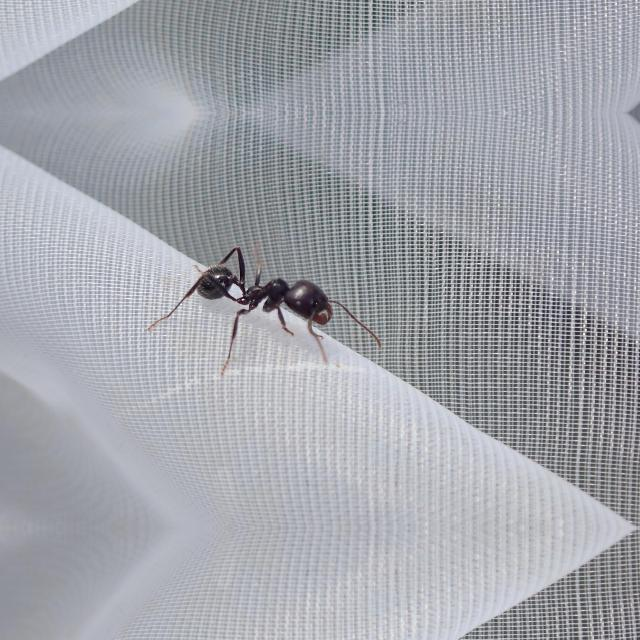Messor: (171, 239, 385, 373)
